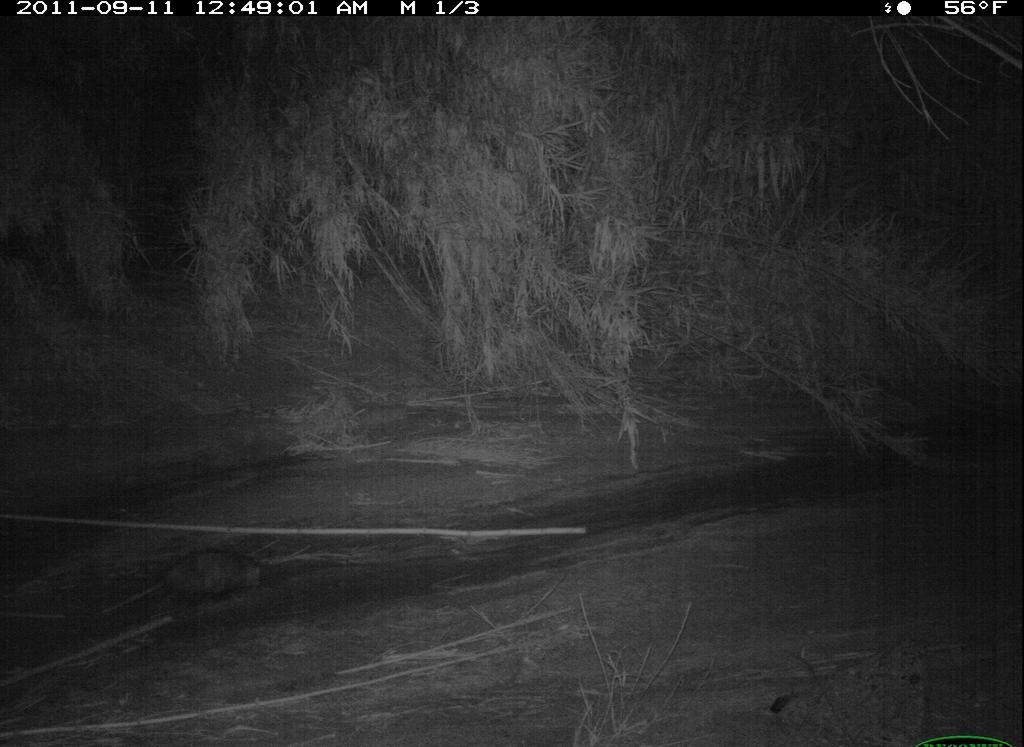opossum: (88, 539, 295, 628)
